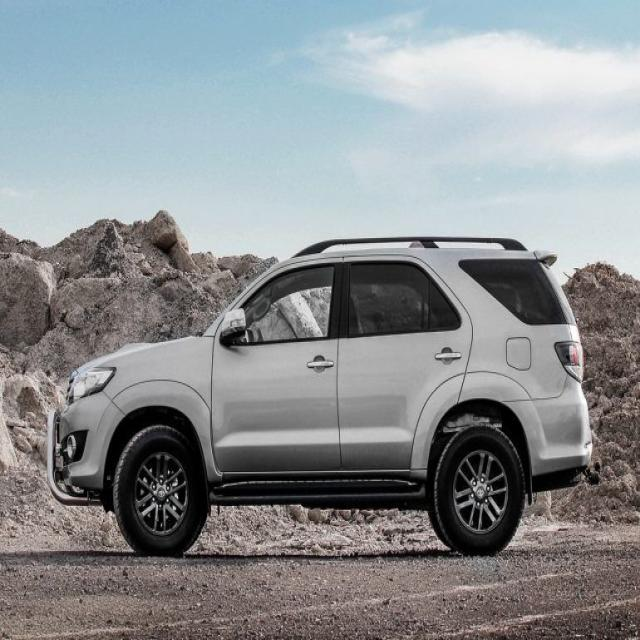light_vehicle: (47, 235, 594, 558)
